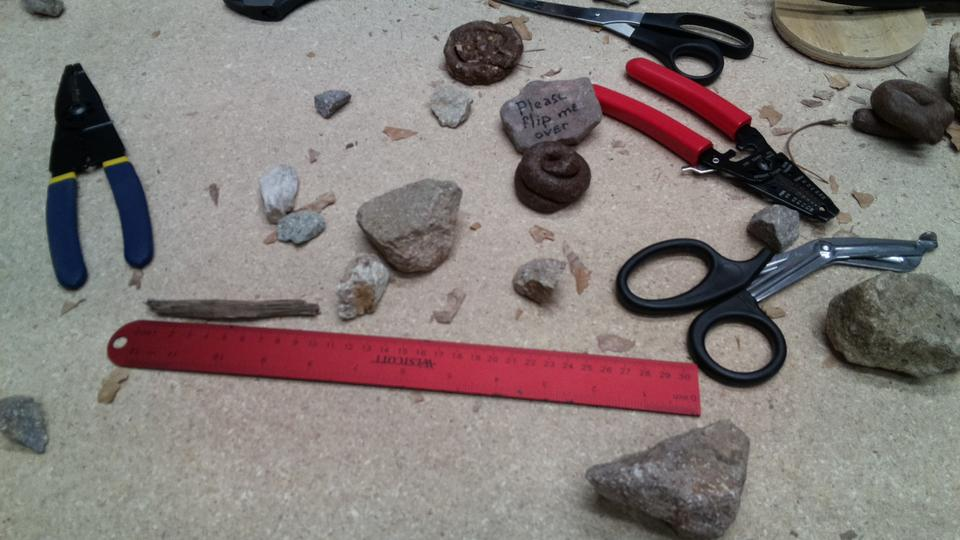poop: (851, 77, 957, 150), (511, 139, 593, 216), (441, 18, 525, 88)
